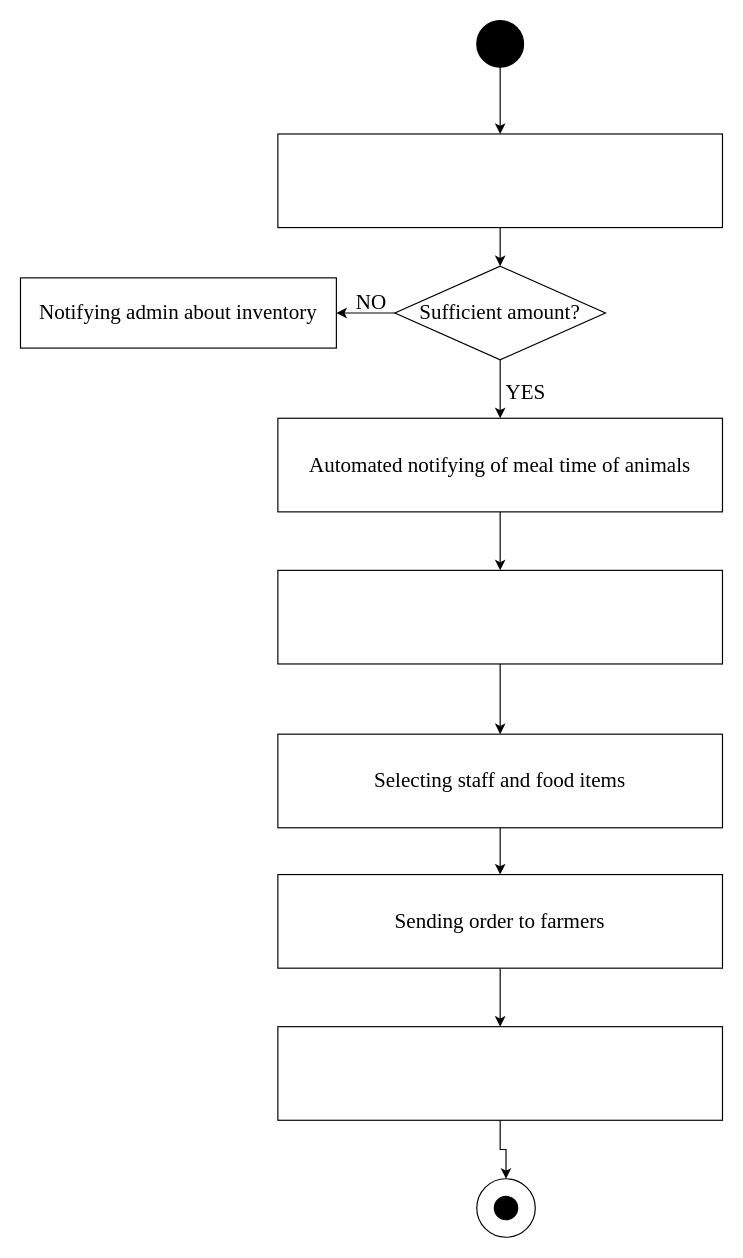
The diagram is 743 pixels wide and 1258 high, and some of its shapes have lost their labels. The shapes that lost their labels are listed below. From the top down, each one's centre as x and y in pixels, then its label:
At point (499, 180): "Tracking food and nutrition items in the farm".
At point (499, 616): "Get options of food items for animals".
At point (499, 1073): "Automated confirmation of feeding session".
